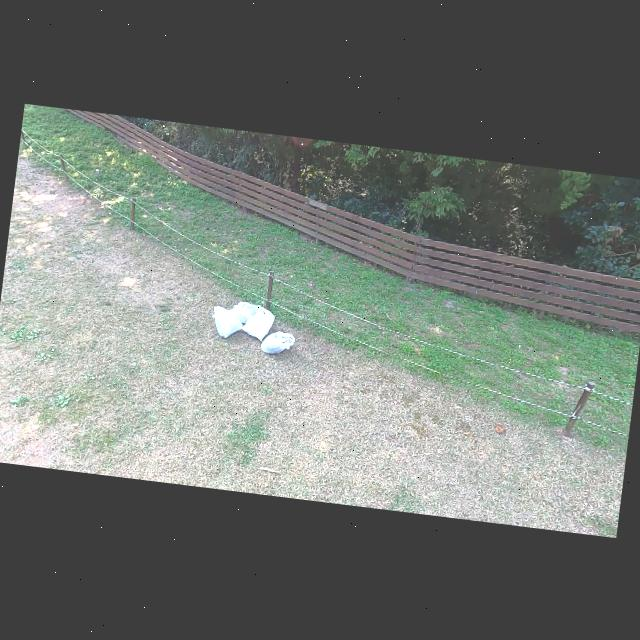trash: (240, 304, 274, 342), (209, 302, 243, 338), (258, 328, 296, 357), (228, 298, 263, 326)
